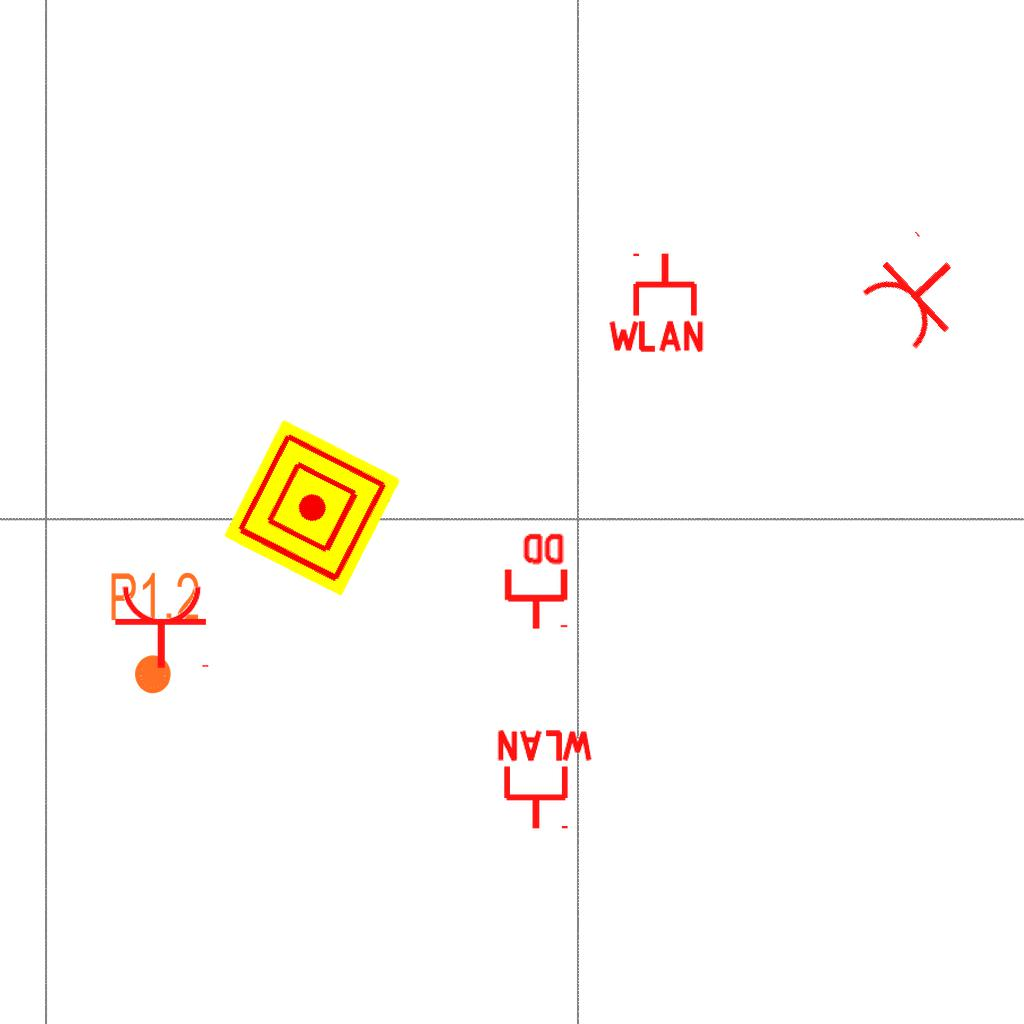Datenanschluss_zweifach: (500, 529, 569, 632)
Downlight_LED_Einbauleuchten_Flur: (108, 569, 201, 697)
NAM-Nichtautomatischer_Melder: (223, 419, 401, 597)
Schukosteckdose_einfach: (851, 225, 984, 359), (113, 583, 213, 670)
WLAN: (604, 249, 708, 354), (493, 728, 597, 833)
